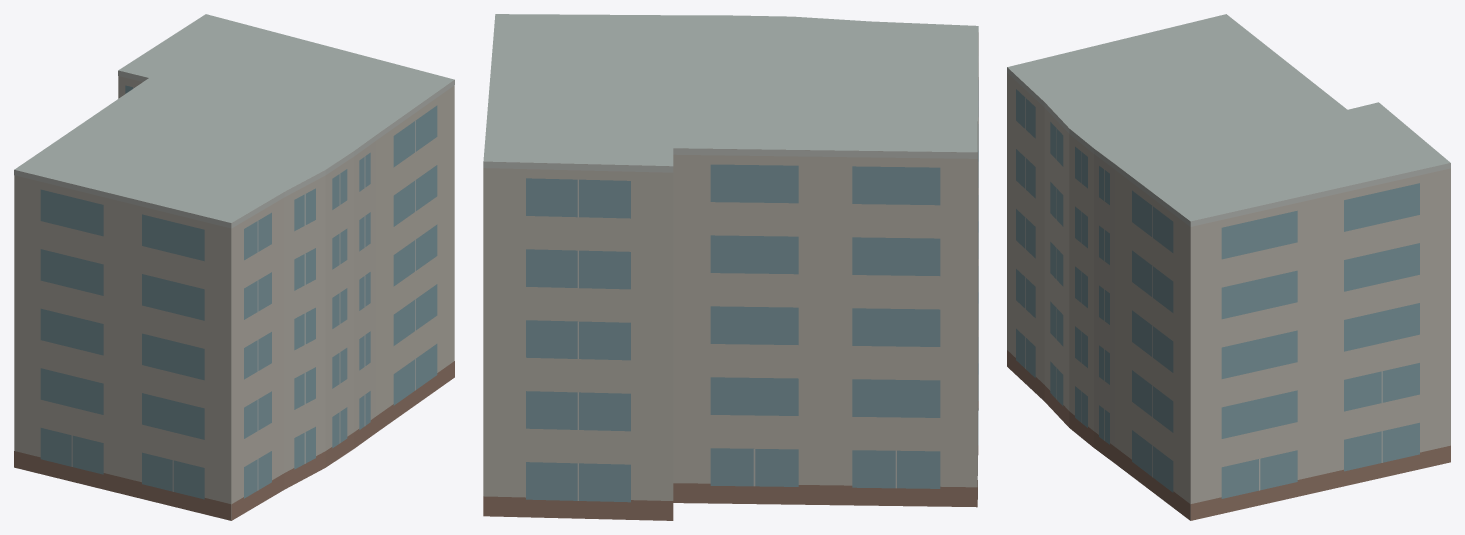
File: survey-upis-32931692.glb
3 views of the same model, side by side, from view 1: azimuth 30°, elevation 25°; view 2: azimuth 150°, elevation 25°; view 3: azimuth 270°, elevation 25° (orthographic). The views are drawn at different scales.
Visible parts, largest first — view 1: survey-upis-32931692.tmp; view 2: survey-upis-32931692.tmp; view 3: survey-upis-32931692.tmp.
Part boxes in pixels (<box>): survey-upis-32931692.tmp: <box>14,14,454,520</box>; survey-upis-32931692.tmp: <box>483,14,978,520</box>; survey-upis-32931692.tmp: <box>1007,14,1450,520</box>.
Size of the model in its own units: 19.7 by 13.25 by 17.81.
